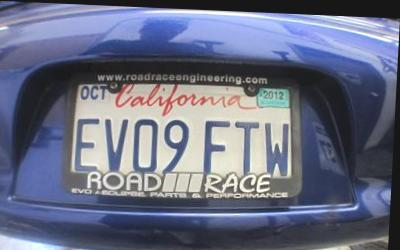License_Plate: (61, 69, 304, 198)
